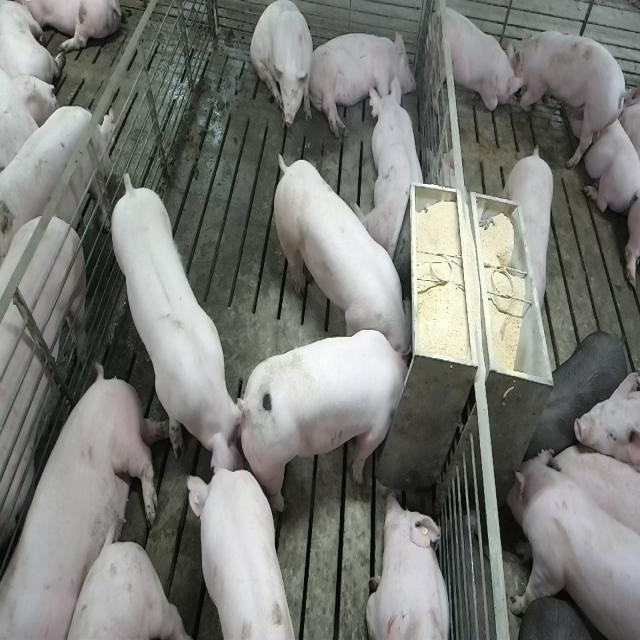Feeding: (246, 329, 420, 513), (270, 145, 411, 357)
Lateral_lying: (3, 364, 168, 640), (307, 28, 417, 140)
Sitting: (422, 0, 518, 123), (250, 3, 315, 137)
Standing: (109, 162, 250, 476), (0, 207, 89, 567), (504, 448, 638, 640), (189, 469, 301, 640), (0, 101, 112, 256), (511, 26, 626, 166), (529, 329, 627, 457), (505, 142, 558, 322)
Sternal_lying: (366, 490, 454, 640), (364, 74, 430, 258), (562, 81, 638, 212)
